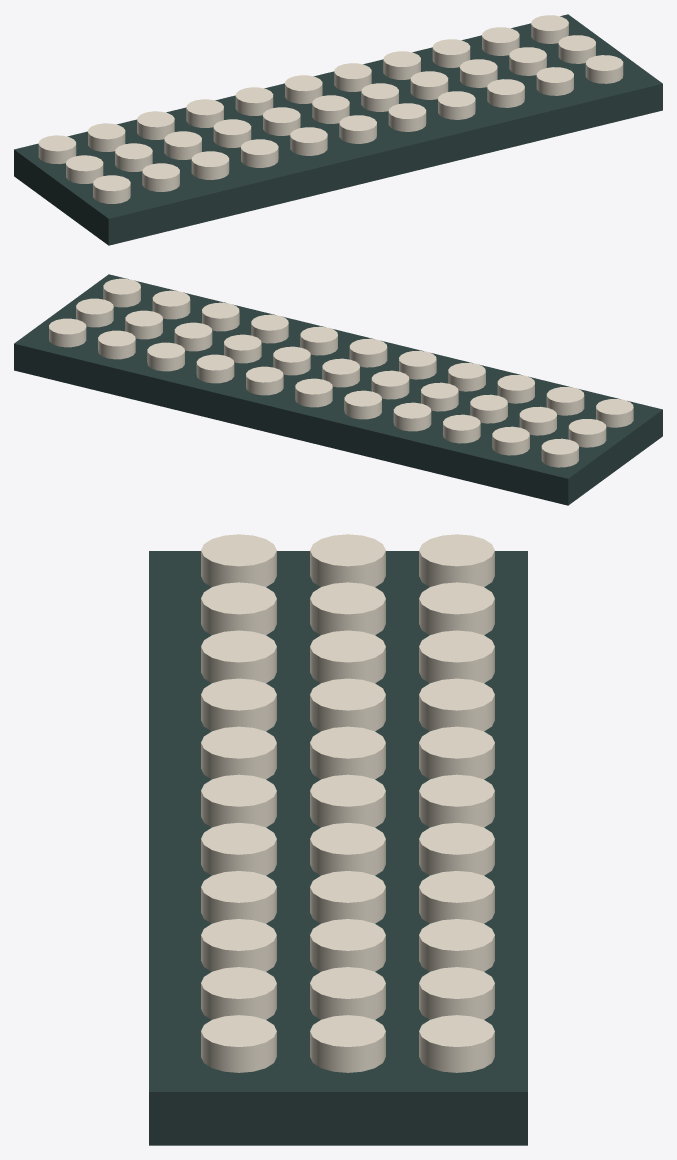
The picture shows the model from 3 angles, top to bottom: view 1: azimuth 30°, elevation 25°; view 2: azimuth 150°, elevation 25°; view 3: azimuth 270°, elevation 25°; orthographic projection. The views are drawn at different scales.
Parts seen in each view (by area): view 1: body0, key0-2-2, key0-2-6, key0-2-10, key0-2-4, key0-2-5, key0-2-8, key0-2-1, key0-2-0, key0-2-7, key0-2-9, key0-2-3 (+22 smaller); view 2: body0, key0-0-3, key0-0-7, key0-0-9, key0-0-8, key0-0-6, key0-0-5, key0-0-10, key0-0-2, key0-0-0, key0-0-4, key0-0-1 (+22 smaller); view 3: body0, key0-1-10, key0-0-10, key0-2-10, key0-1-9, key0-0-9, key0-2-9, key0-0-2, key0-1-2, key0-0-0, key0-0-4, key0-1-0 (+22 smaller).
Part boxes in pixels (x1,y1,x2,y2): body0: (14,14,662,245); key0-2-2: (191,151,229,179); key0-2-6: (388,103,426,131); key0-2-10: (585,55,623,83); key0-2-4: (290,127,327,155); key0-2-5: (339,115,376,143); key0-2-8: (487,79,524,107); key0-2-1: (142,163,179,191); key0-2-0: (93,175,130,203); key0-2-7: (438,91,475,119); key0-2-9: (536,67,573,95); key0-2-3: (241,139,278,167); body0: (14,274,662,505); key0-0-3: (393,402,431,431); key0-0-7: (196,354,234,383); key0-0-9: (98,330,135,359); key0-0-8: (147,342,184,371); key0-0-6: (246,366,283,395); key0-0-5: (295,378,332,407); key0-0-10: (49,318,86,347); key0-0-2: (443,414,480,443); key0-0-0: (541,438,578,467); key0-0-4: (344,390,381,419); key0-0-1: (492,426,529,455); body0: (149,551,527,1145); key0-1-10: (310,1015,385,1072); key0-0-10: (419,1015,494,1072); key0-2-10: (201,1015,276,1072); key0-1-9: (310,967,385,1019); key0-0-9: (419,967,494,1019); key0-2-9: (201,967,276,1019); key0-0-2: (419,630,494,683); key0-1-2: (310,630,385,683); key0-0-0: (419,534,494,586); key0-0-4: (419,726,494,779); key0-1-0: (310,534,385,586).
Bounding box in the file's own units: 0.54 × 0.037 × 0.16.
